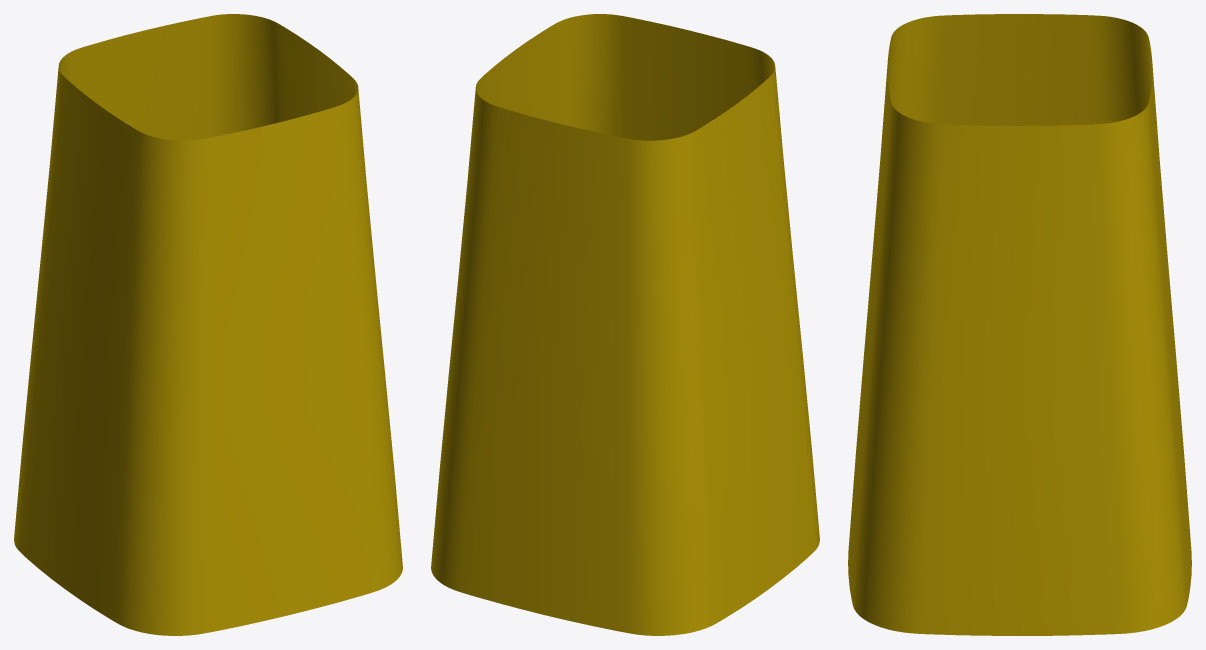
File: original-6.obj
3 renders of one model, left to right at view 1: azimuth 30°, elevation 25°; view 2: azimuth 150°, elevation 25°; view 3: azimuth 270°, elevation 25°, orthographic. The views are drawn at different scales.
Visible parts, largest first — view 1: group_5/ID41#ID41; view 2: group_5/ID41#ID41; view 3: group_5/ID41#ID41.
Boxes of the visible parts, <box> form: group_5/ID41#ID41: <box>14,14,402,635</box>; group_5/ID41#ID41: <box>431,14,819,635</box>; group_5/ID41#ID41: <box>848,14,1191,635</box>.
Bounding box in the file's own units: 0.6774 × 1.07 × 0.6775.
